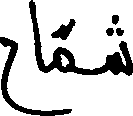ح: (0, 35, 17, 111)
خ: (28, 0, 44, 77)
ش: (104, 13, 131, 76)
م: (50, 43, 73, 79)
